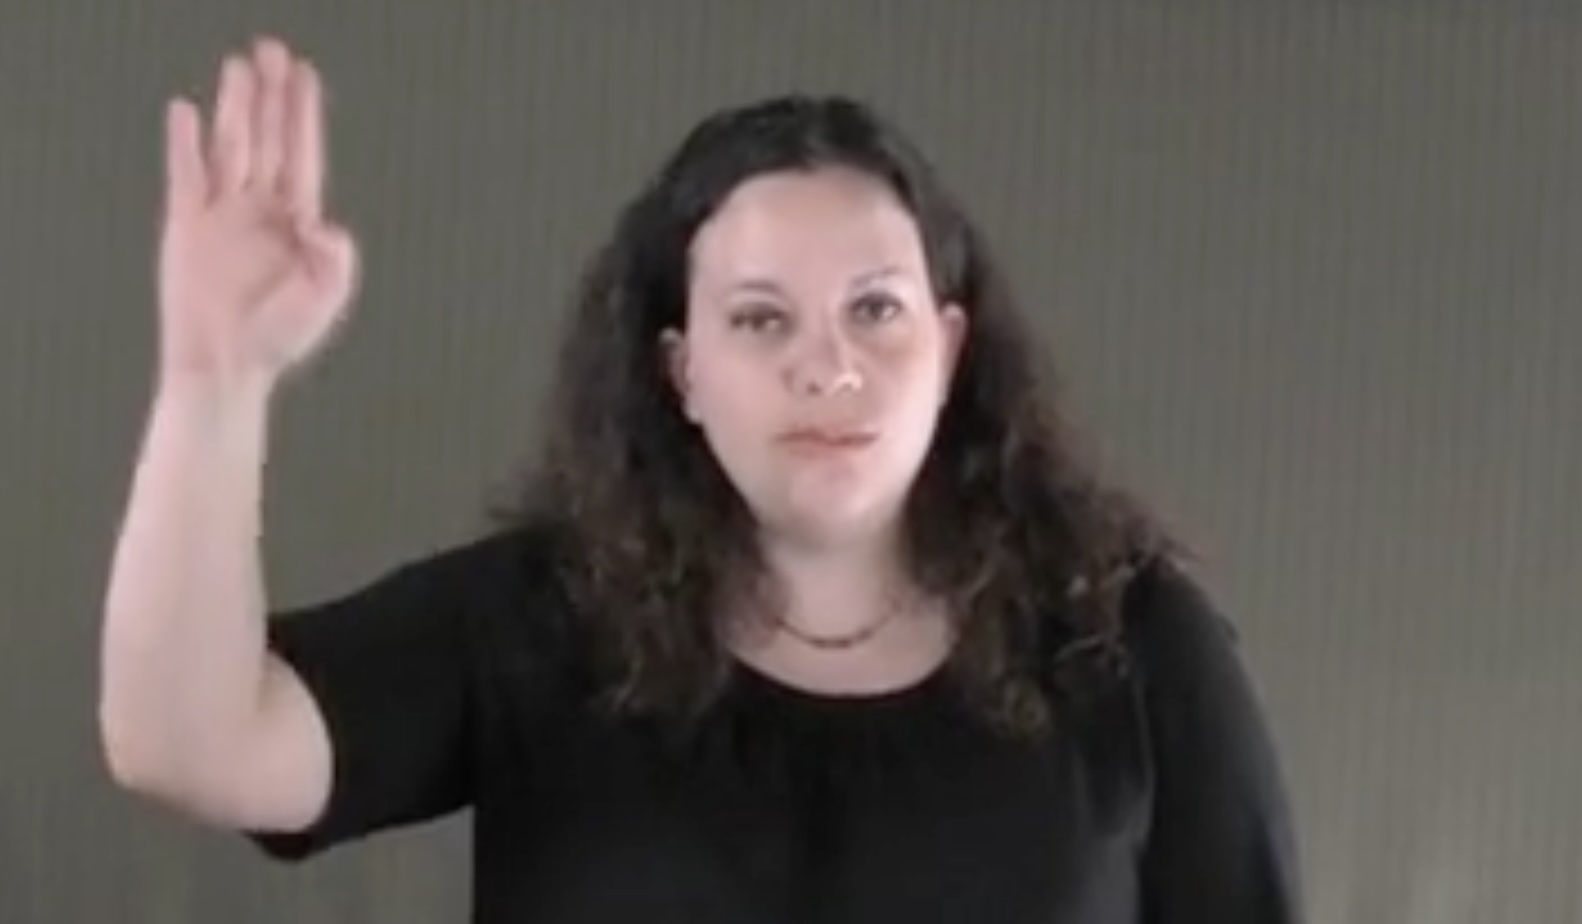hello: (143, 37, 414, 402)
